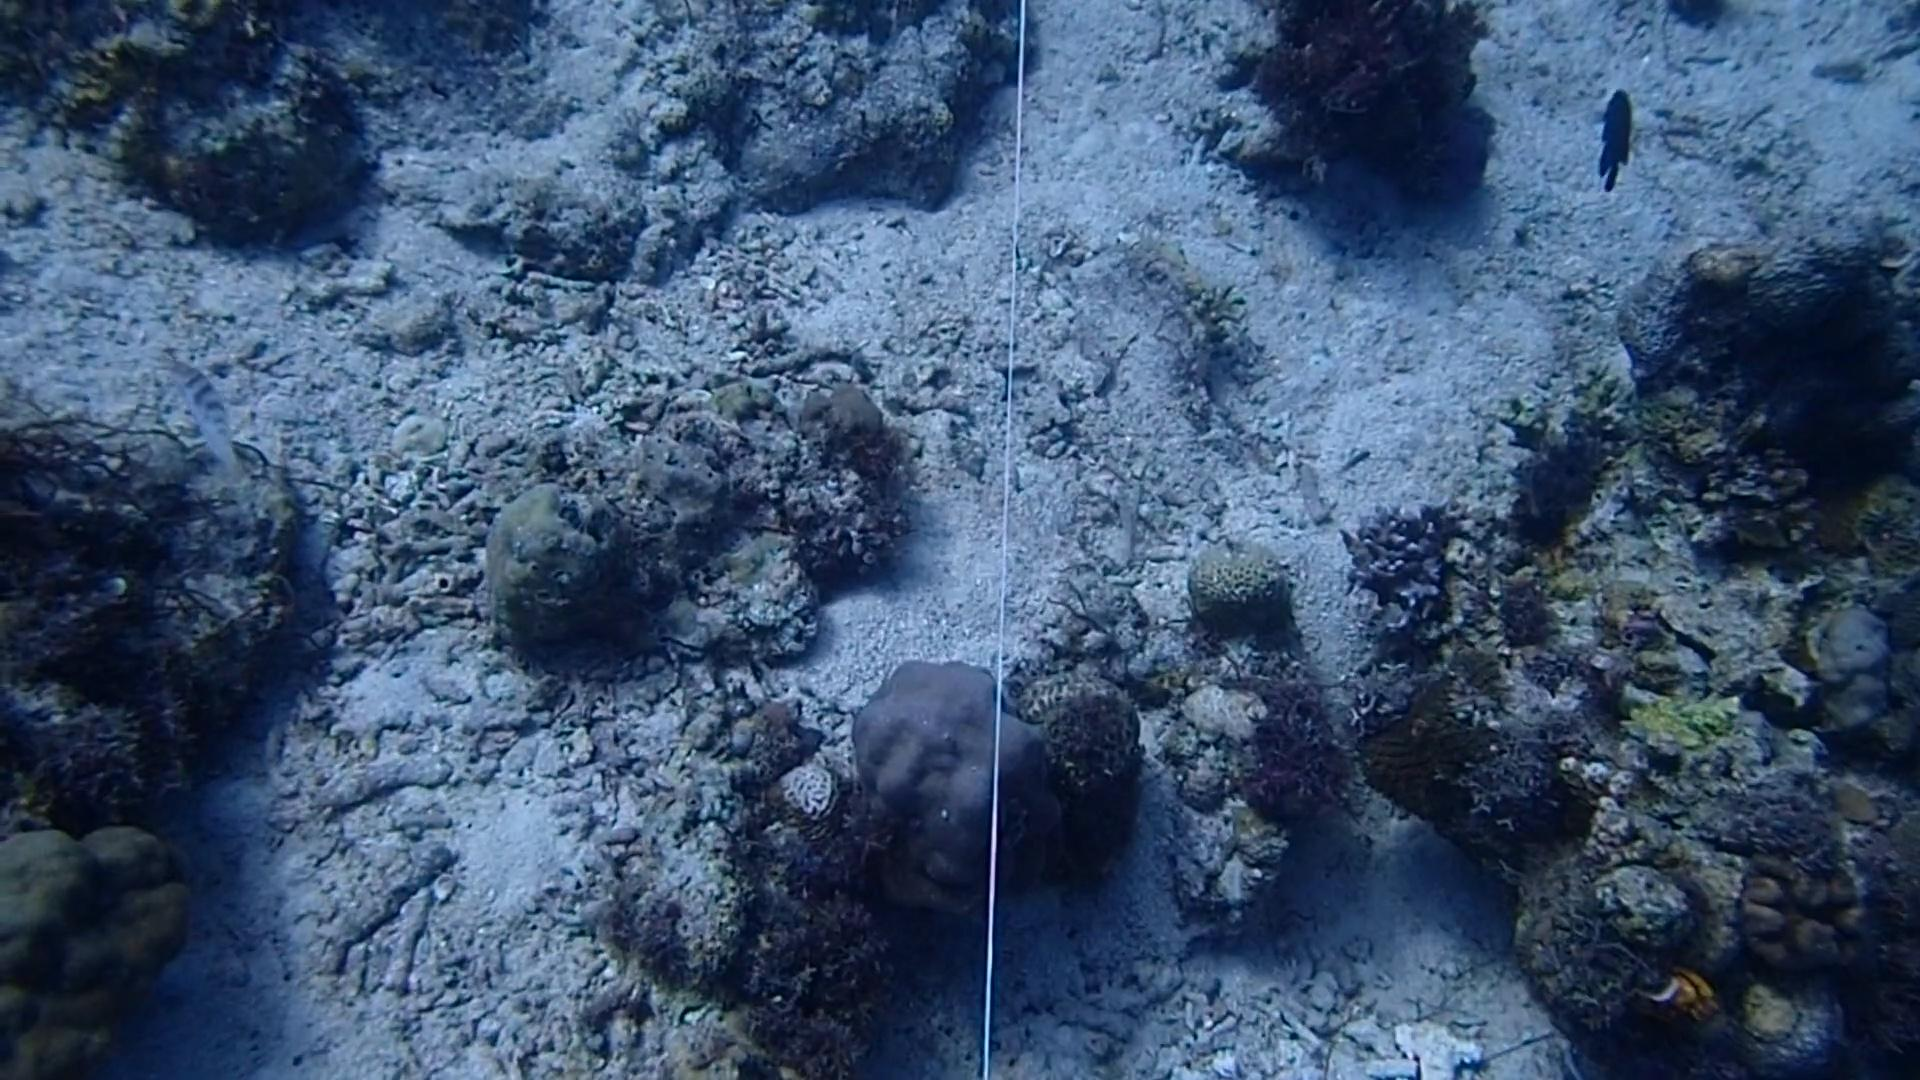Dark Fish: (1585, 82, 1646, 202)
Light Fish w Back Stripes: (164, 343, 240, 495)
